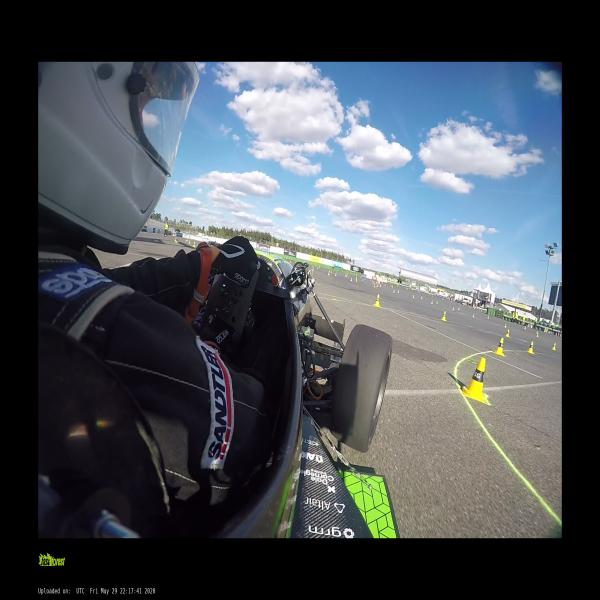yellow_cone: (462, 356, 490, 402), (493, 338, 506, 357), (527, 340, 535, 354), (374, 294, 380, 307), (440, 311, 446, 321), (551, 344, 556, 351), (506, 330, 510, 337), (451, 306, 455, 312), (536, 332, 539, 338), (457, 306, 460, 312), (327, 270, 330, 276), (430, 300, 434, 304), (472, 314, 475, 318), (355, 276, 357, 282), (372, 284, 376, 287), (435, 300, 438, 304), (505, 323, 507, 328), (420, 295, 422, 300), (350, 277, 352, 282), (392, 289, 395, 292), (487, 315, 489, 319), (175, 238, 177, 242), (334, 272, 336, 276), (412, 295, 414, 298), (345, 274, 347, 277), (189, 239, 190, 244), (364, 278, 366, 280), (194, 244, 195, 247)
